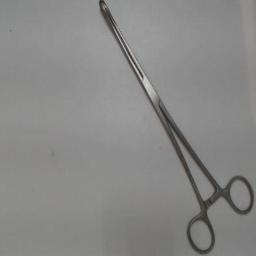Sponge Forceps: (94, 0, 256, 256)
